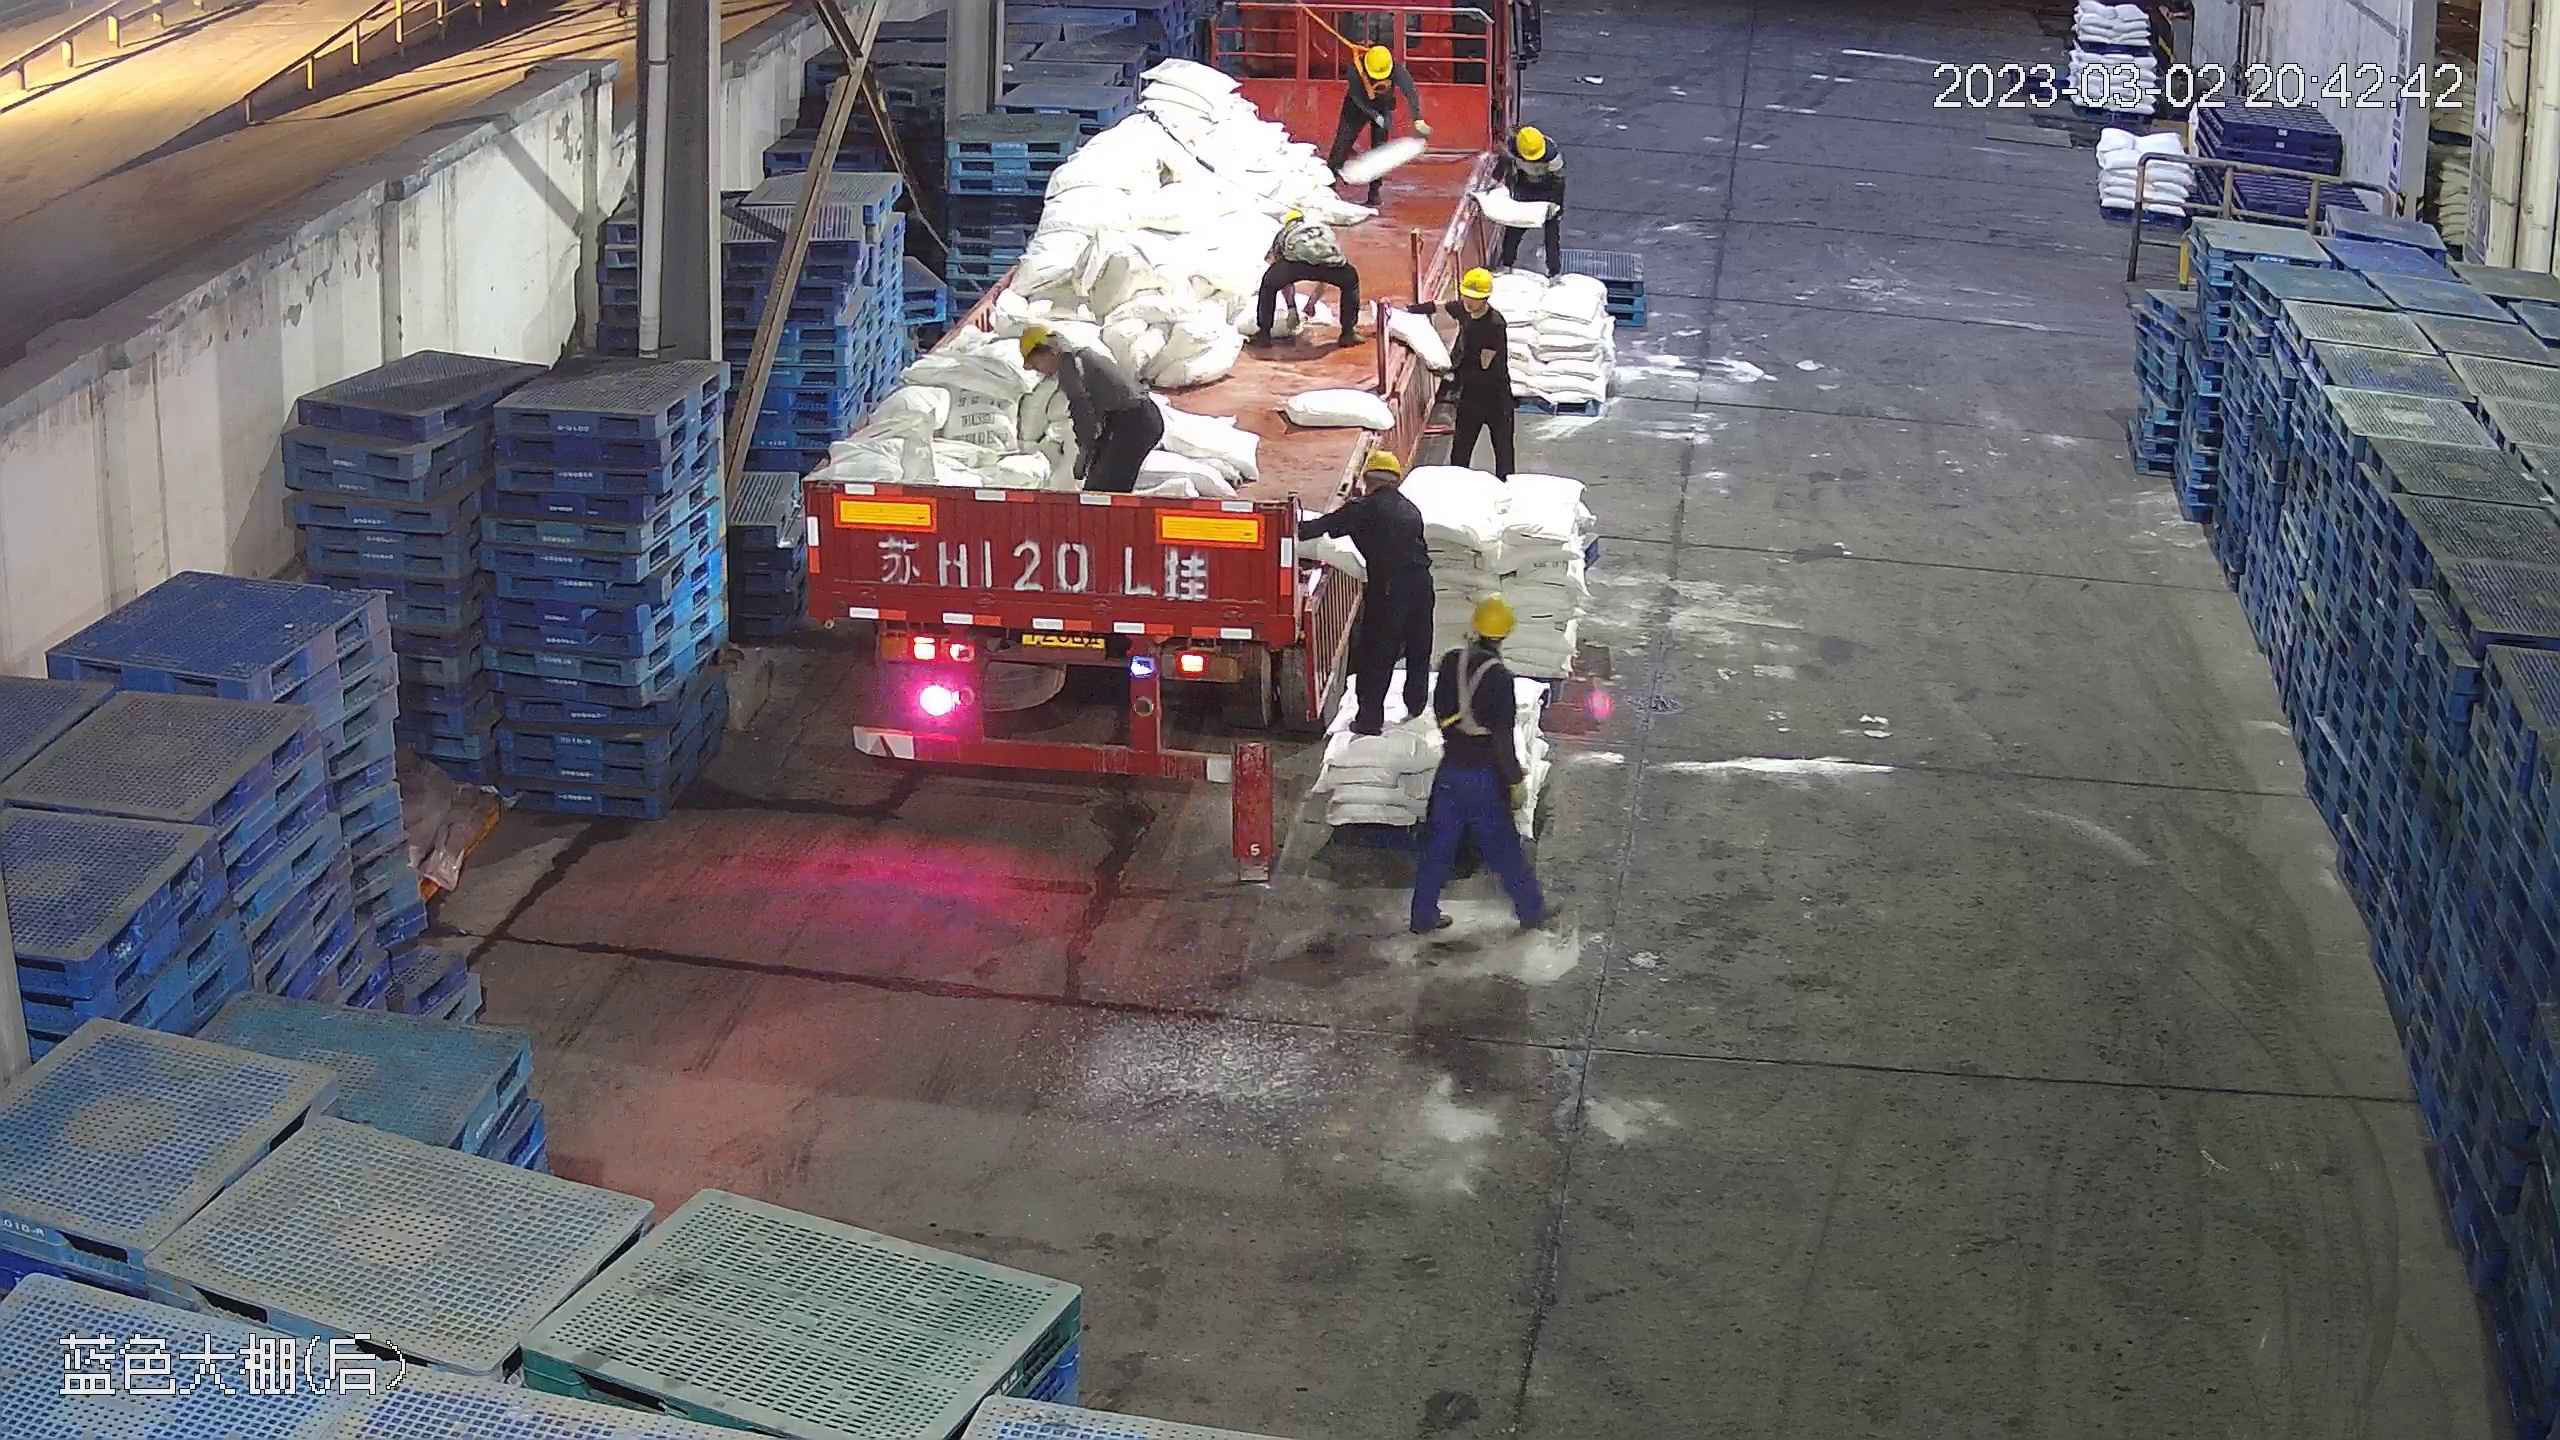belt: (1435, 652, 1520, 737), (1070, 338, 1133, 408), (1348, 36, 1391, 101), (1282, 219, 1333, 238)
head: (1438, 595, 1521, 701), (1333, 443, 1425, 538), (1016, 322, 1108, 402), (1444, 263, 1515, 343), (1484, 122, 1556, 184), (1346, 40, 1405, 113)
helmet: (1468, 593, 1515, 637), (1016, 321, 1059, 362), (1358, 444, 1409, 477), (1455, 264, 1496, 298), (1364, 42, 1395, 80), (1513, 123, 1547, 157), (1278, 206, 1310, 230)
people: (1405, 589, 1563, 940), (1297, 440, 1433, 740), (1013, 320, 1163, 494), (1431, 261, 1522, 478), (1245, 202, 1369, 355), (1324, 38, 1426, 192), (1470, 121, 1568, 279)
truck: (815, 16, 1532, 809)
